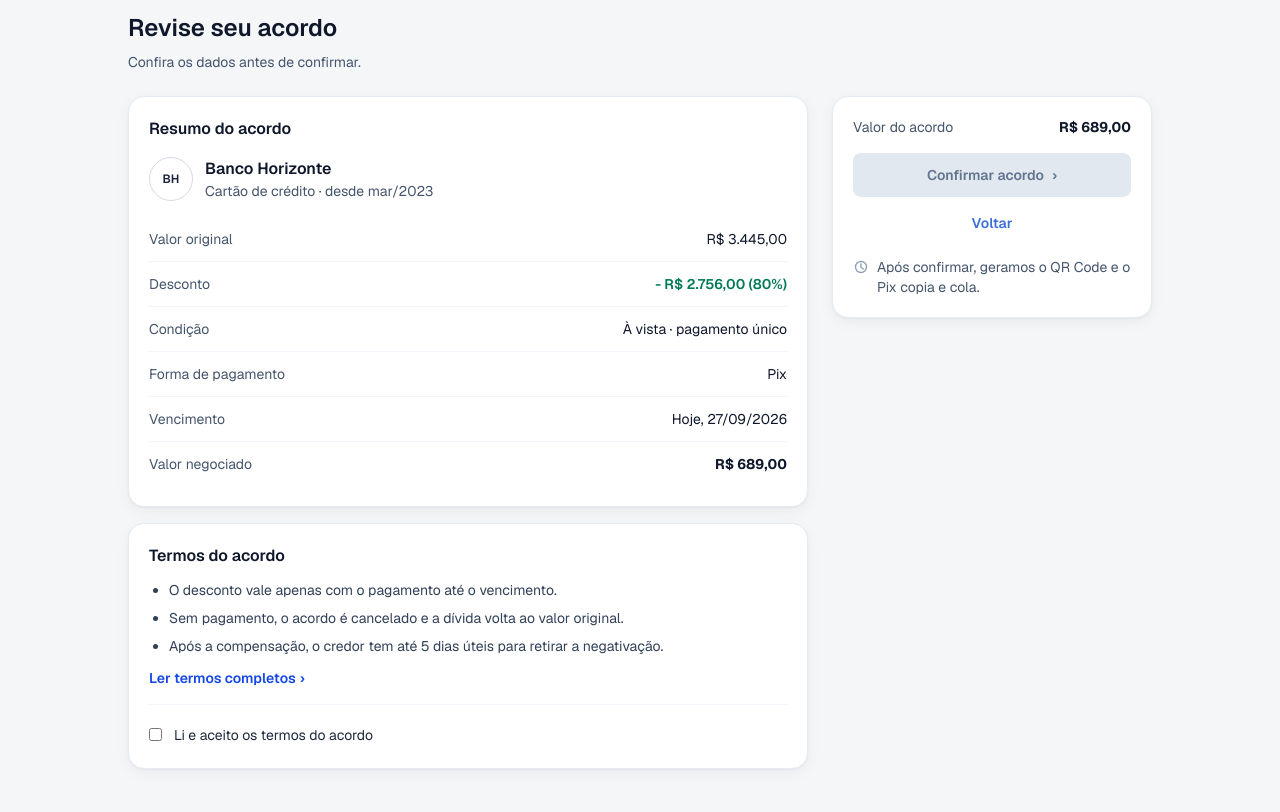
Test: mantém a revisão quando o checkout responde 500
Click the checkbox labelled "Li e aceito os termos do acordo".
click(156, 734)  # box [149,728,162,741]
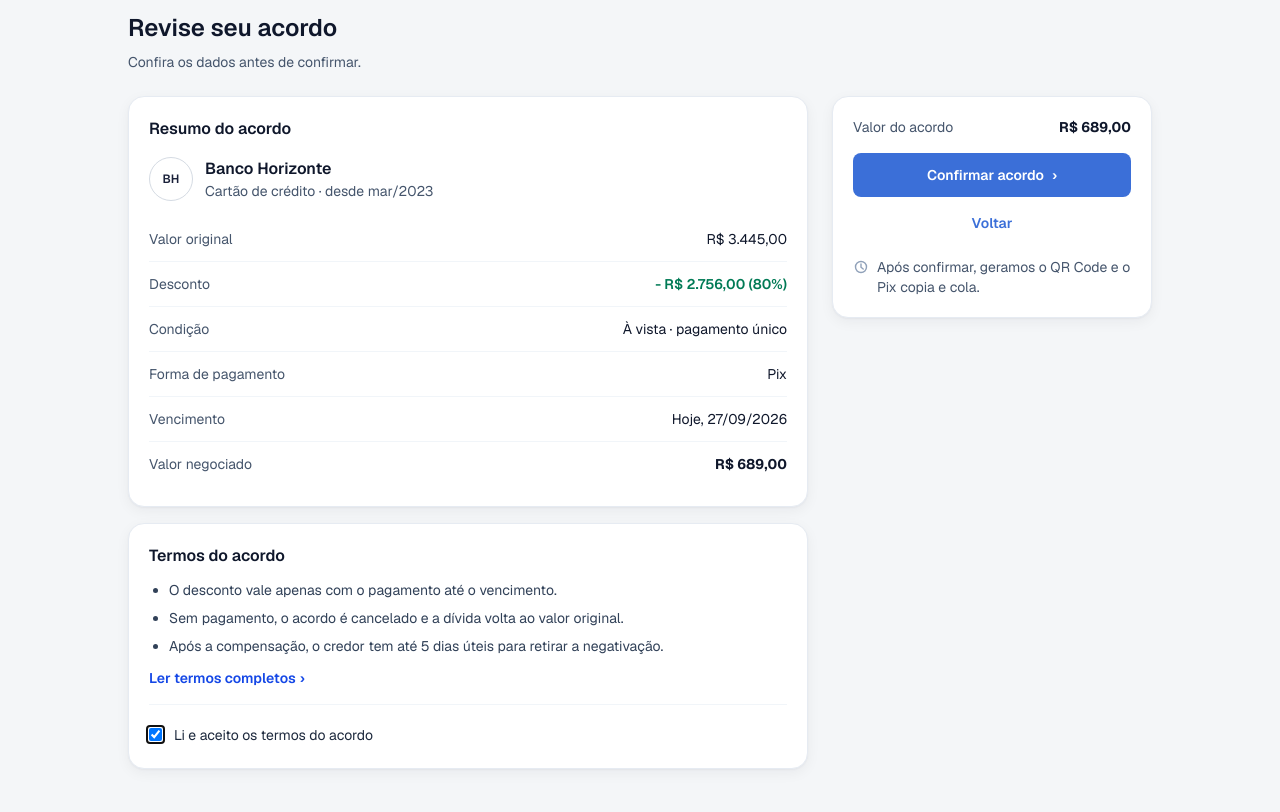
Click the button "Confirmar acordo ›".
click(992, 175)  # box [853,153,1131,197]
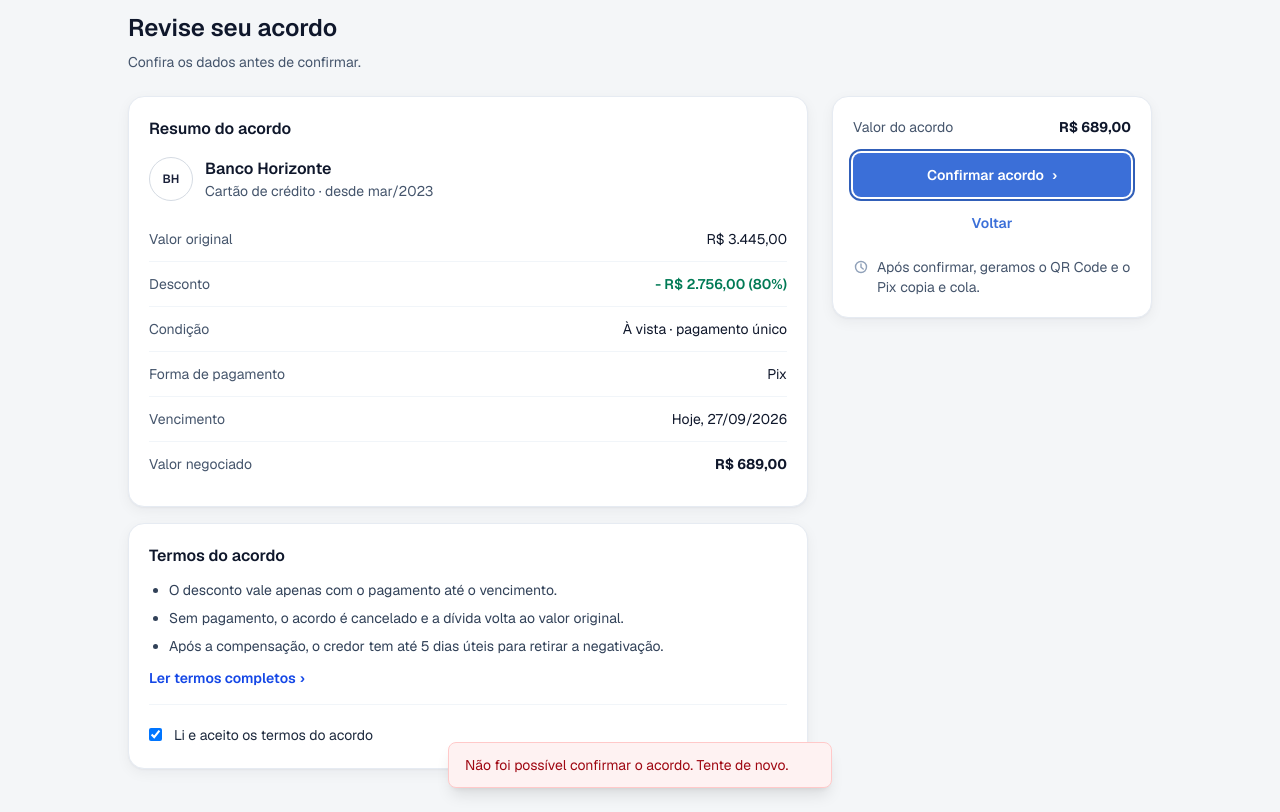
Check: the heading "Revise seu acordo" is shown, box [128,12,337,43]
Check: the checkbox labelled "Li e aceito os termos do acordo" is checked, box [149,728,162,741]
Check: the message reads "Não foi possível confirmar o acordo. Tente de novo.", box [465,756,788,774]
